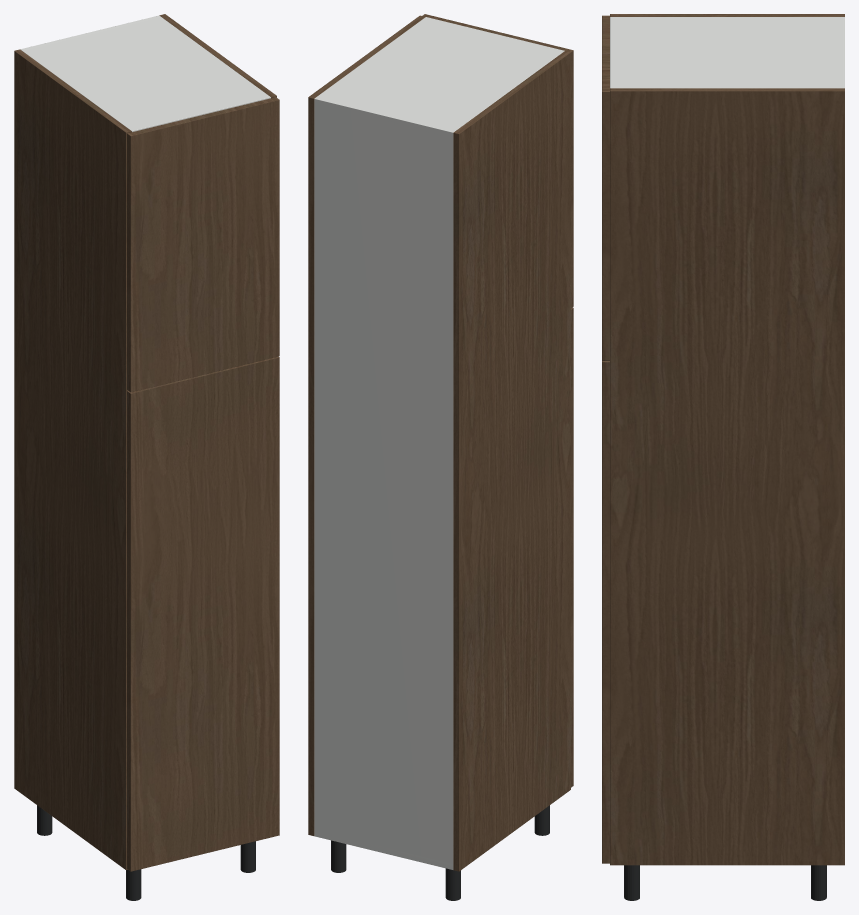
The model's file is oppein-pb-mso-pc1884.glb.
3 renders of one model, left to right at view 1: azimuth 30°, elevation 25°; view 2: azimuth 150°, elevation 25°; view 3: azimuth 270°, elevation 25°, orthographic. The views are drawn at different scales.
Visible parts, largest first — view 1: Cabinet side, Door, Door.001, Cabinet top, Cabinet side.001; view 2: Cabinet back, Cabinet side, Cabinet top, Cabinet side.001, Door, Door.001; view 3: Cabinet side.001, Cabinet top, Door, Door.001, Cabinet side, Adjustable foot.002, Adjustable foot.003.
Boxes of the visible parts, x1,y1,x2,y2 form: Cabinet side: (14, 49, 131, 869); Door: (127, 356, 279, 871); Door.001: (127, 97, 279, 392); Cabinet top: (22, 17, 270, 131); Cabinet side.001: (159, 14, 276, 98); Cabinet back: (314, 97, 454, 869); Cabinet side: (453, 51, 570, 871); Cabinet top: (315, 17, 564, 130); Cabinet side.001: (308, 15, 425, 835); Door: (571, 307, 573, 787); Door.001: (422, 14, 573, 308); Cabinet side.001: (610, 88, 844, 865); Cabinet top: (610, 17, 840, 88); Door: (602, 361, 609, 863); Door.001: (602, 15, 609, 360); Cabinet side: (610, 14, 844, 16); Adjustable foot.002: (811, 865, 826, 900); Adjustable foot.003: (624, 865, 639, 900).
Bounding box in the file's own units: 0.4572 × 2.25 × 0.6064.
Materials: 3 (1 with a texture image).
